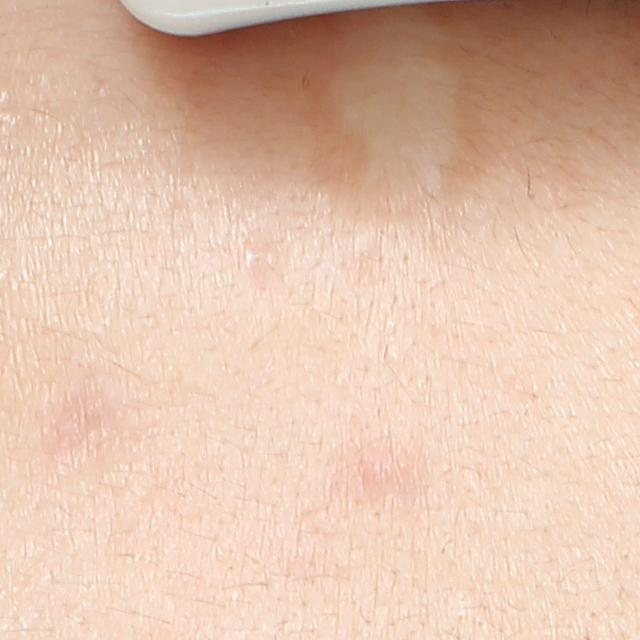comedo: (239, 245, 256, 268)
